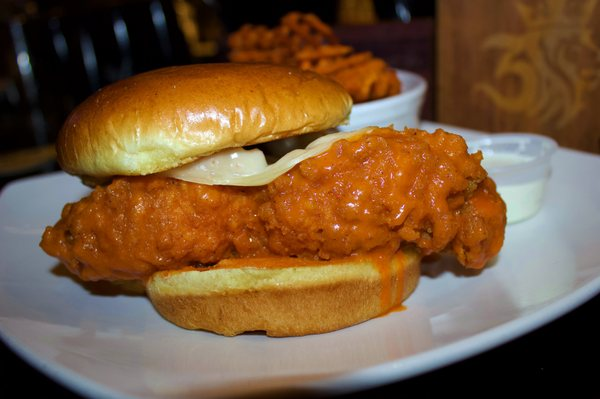soup: (41, 63, 514, 337)
